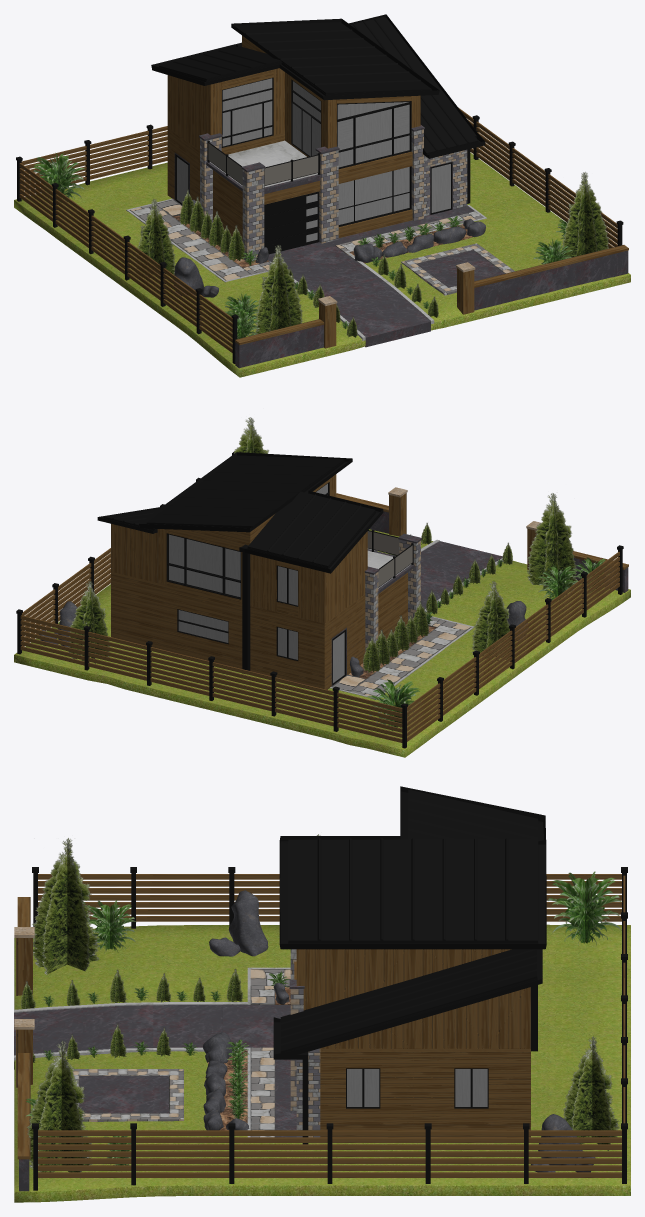
Rendered from modern_house.glb.
3 views of the same model, one above another, from view 1: azimuth 30°, elevation 25°; view 2: azimuth 150°, elevation 25°; view 3: azimuth 270°, elevation 25° (orthographic). The views are drawn at different scales.
Parts seen in each view (by area): view 1: Grass, Driveway, Roof Main, Fence, Front fence 2, Ref house.002, Roof 3, Fence.001, Path, Window front 2nd floor.001, Fence.002, Window front 1st floor (+44 smaller); view 2: Grass, Fence.002, Roof Main, Ref house, Ref house.003, Fence, Roof 2, Ref house.002, Window front 2nd floor.002, Gutter, Path, Pine.004 (+28 smaller); view 3: Grass, Roof Main, Fence.001, Ref house.006, Driveway, Roof 3, Fence, Ref house.005, Gutter, Pine.004, Front lawn design, Roof 2 (+26 smaller).
Part boxes in pixels (x1,y1,x2,y2): Grass: (14, 152, 630, 377); Driveway: (267, 206, 473, 347); Roof Main: (234, 22, 431, 93); Fence: (19, 163, 232, 352); Front fence 2: (474, 245, 628, 310); Ref house.002: (167, 75, 210, 202); Roof 3: (350, 16, 478, 156); Fence.001: (458, 107, 617, 248); Path: (129, 199, 483, 280); Window front 2nd floor.001: (337, 103, 411, 169); Fence.002: (21, 126, 167, 195); Window front 1st floor: (338, 166, 411, 226); Grass: (14, 529, 630, 757); Fence.002: (20, 615, 402, 742); Roof Main: (146, 455, 344, 529); Ref house: (111, 572, 242, 668); Ref house.003: (250, 554, 324, 688); Fence: (407, 552, 619, 741); Roof 2: (247, 491, 375, 567); Ref house.002: (324, 531, 367, 689); Window front 2nd floor.002: (166, 533, 241, 599); Gutter: (139, 452, 383, 573); Path: (331, 617, 471, 696); Pine.004: (527, 493, 577, 590); Grass: (14, 924, 630, 1202); Roof Main: (288, 838, 537, 942); Fence.001: (38, 1130, 621, 1177); Ref house.006: (320, 987, 530, 1137); Driveway: (14, 1005, 296, 1137); Roof 3: (280, 949, 537, 1052); Fence: (38, 874, 621, 921); Ref house.005: (296, 949, 511, 1010); Gutter: (279, 786, 546, 949); Pine.004: (32, 838, 100, 974); Front lawn design: (73, 1069, 183, 1121); Roof 2: (408, 789, 537, 839).
Size of the model in its own units: 21.06 by 8.6 by 21.07.
6 materials, 6 textured.
